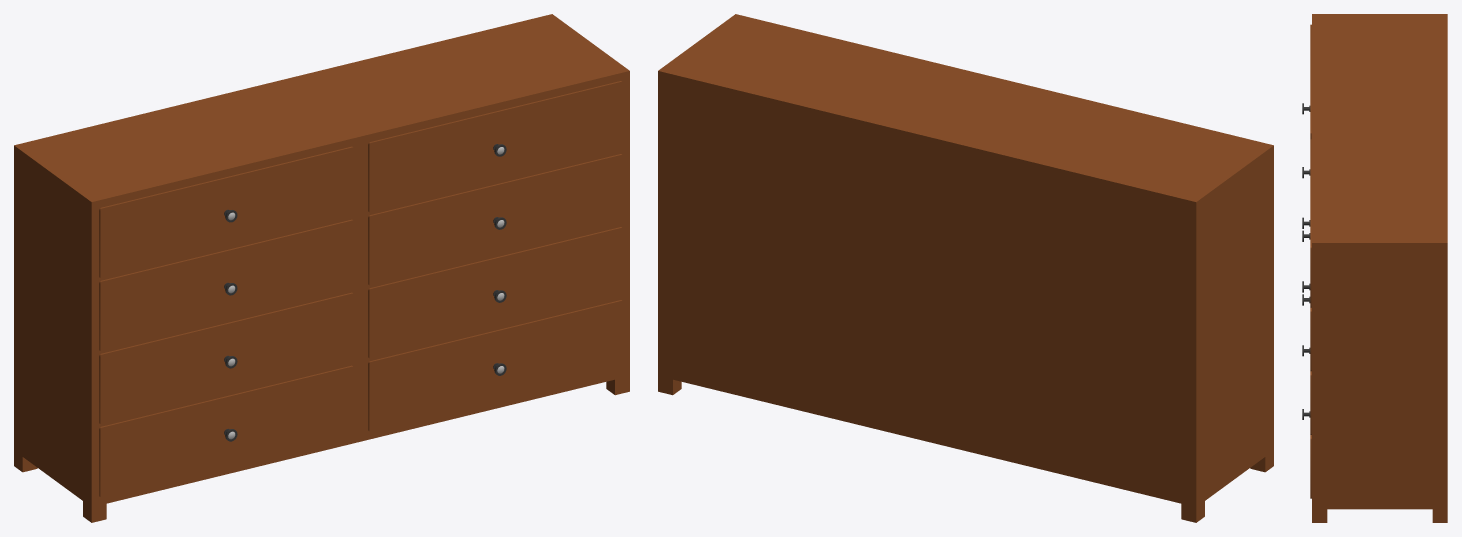
The model's file is Dresser.obj.
3 renders of one model, left to right at view 1: azimuth 30°, elevation 25°; view 2: azimuth 150°, elevation 25°; view 3: azimuth 270°, elevation 25°, orthographic. The views are drawn at different scales.
Parts seen in each view (by area): view 1: Mesh17 End_Table1 Model, Mesh10 Drawer5 Model, Mesh12 Drawer6 Model, Mesh14 Drawer7 Model, Mesh16 Drawer8 Model, Mesh6 Drawer3 Model, Mesh8 Drawer4 Model, Mesh4 Drawer2 Model, Mesh2 Drawer1 Model; view 2: Mesh17 End_Table1 Model; view 3: Mesh17 End_Table1 Model, Mesh10 Drawer5 Model, Mesh2 Drawer1 Model.
Part boxes in pixels (x1,y1,x2,y2): Mesh17 End_Table1 Model: (14,14,629,522); Mesh10 Drawer5 Model: (368,81,623,213); Mesh12 Drawer6 Model: (368,154,623,286); Mesh14 Drawer7 Model: (368,227,623,359); Mesh16 Drawer8 Model: (368,300,623,432); Mesh6 Drawer3 Model: (99,292,354,424); Mesh8 Drawer4 Model: (99,365,354,497); Mesh4 Drawer2 Model: (99,219,354,351); Mesh2 Drawer1 Model: (99,146,354,278); Mesh17 End_Table1 Model: (658,14,1273,522); Mesh17 End_Table1 Model: (1312,14,1447,522); Mesh10 Drawer5 Model: (1310,139,1311,307); Mesh2 Drawer1 Model: (1310,24,1311,139).
Size of the model in its own units: 72 by 41 by 19.31.
